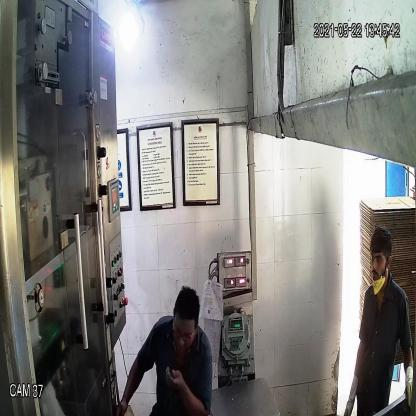goggles: (172, 323, 196, 345)
no_goggles: (368, 252, 388, 267)
